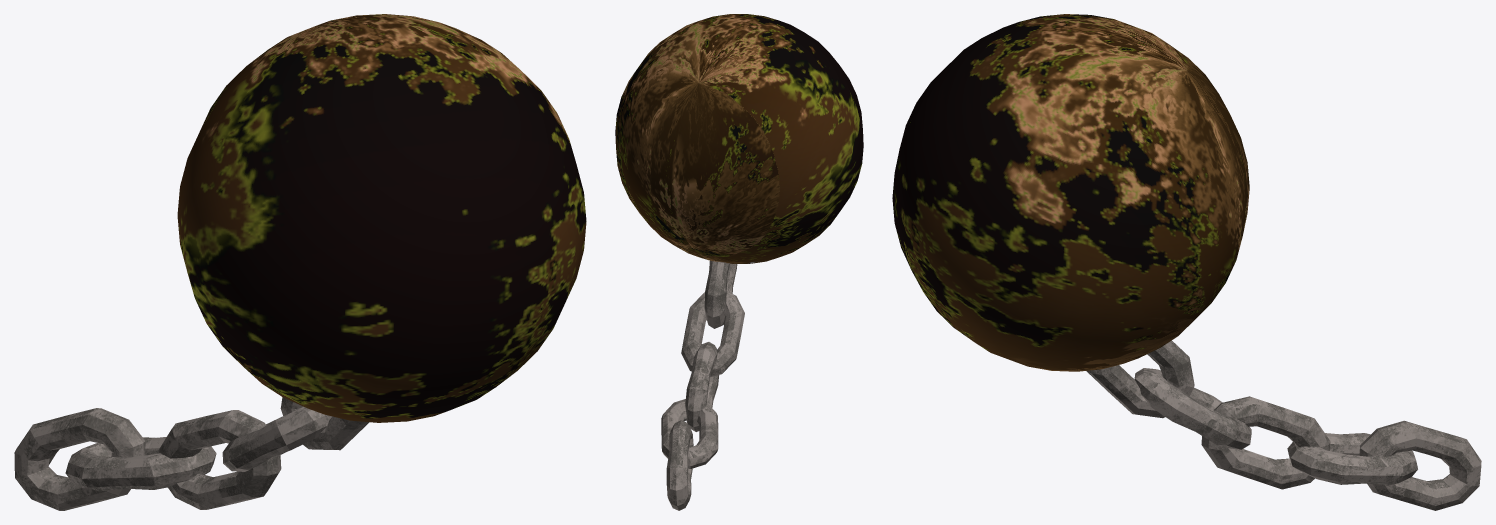
File: planeta2.obj
3 views of the same model, side by side, from view 1: azimuth 30°, elevation 25°; view 2: azimuth 150°, elevation 25°; view 3: azimuth 270°, elevation 25° (orthographic). The views are drawn at different scales.
Parts seen in each view (by area): view 1: pTorus9; view 2: pTorus9; view 3: pTorus9.
Boxes of the visible parts, box(x1,y1,x2,y2) form: pTorus9: box(14, 14, 586, 510); pTorus9: box(615, 14, 863, 510); pTorus9: box(892, 14, 1481, 510).
Bounding box in the file's own units: 4.45 × 7.24 × 7.34.
1 material, 1 textured.
